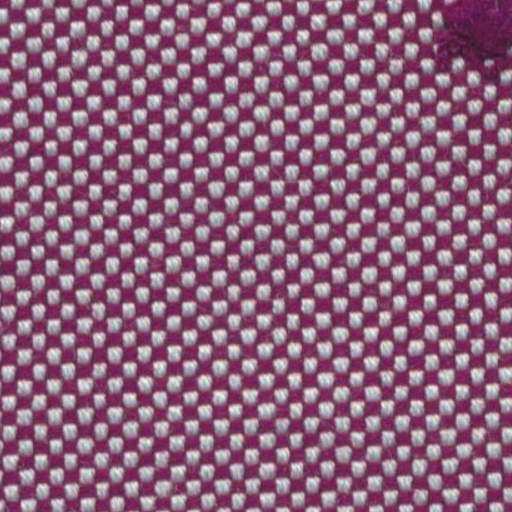MianQiu: (404, 6, 505, 114)
